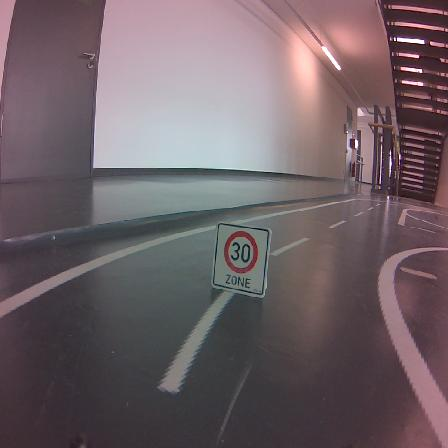30_ZONE_BEGIN: (211, 221, 271, 298)
